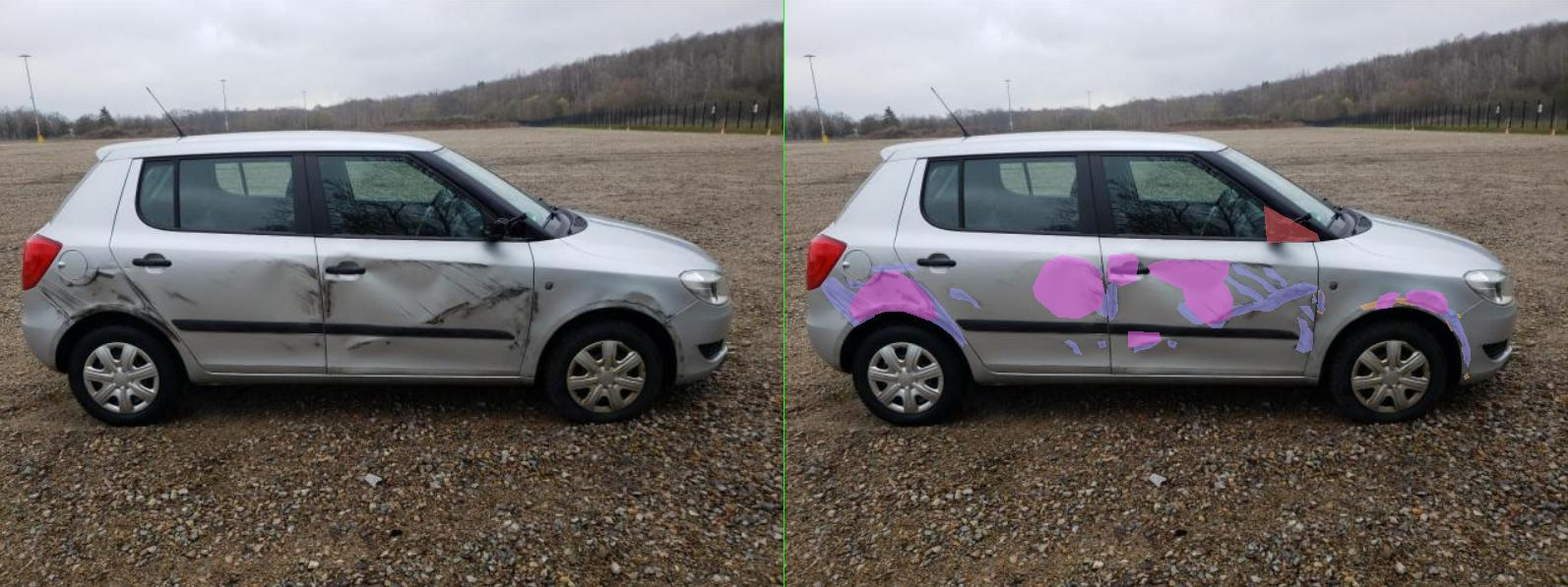Dent: (128, 270, 305, 322), (496, 255, 638, 318), (725, 260, 890, 295), (798, 280, 896, 323), (1243, 290, 1326, 313), (646, 254, 707, 285), (687, 331, 752, 346), (1180, 292, 1231, 309)
Missing part: (959, 205, 1070, 242)
Paint chip: (1150, 293, 1365, 351), (1066, 290, 1079, 314), (1359, 354, 1371, 363), (1359, 373, 1369, 379)
Scratch: (839, 282, 1066, 327), (250, 275, 364, 343), (827, 263, 957, 303), (73, 277, 179, 326), (1314, 307, 1371, 367), (280, 309, 359, 346), (892, 263, 989, 291), (122, 267, 230, 287), (591, 286, 644, 317), (217, 285, 274, 306), (1022, 317, 1056, 352), (331, 288, 390, 308), (957, 267, 1007, 289), (786, 302, 835, 323), (579, 263, 636, 280), (118, 287, 171, 305), (829, 295, 871, 317), (644, 282, 666, 321), (699, 338, 754, 352), (169, 264, 268, 271), (831, 303, 871, 317), (559, 340, 593, 354), (1030, 306, 1058, 321), (1066, 288, 1079, 312), (766, 259, 806, 266), (766, 340, 784, 347), (1056, 293, 1066, 303), (626, 341, 642, 347)
